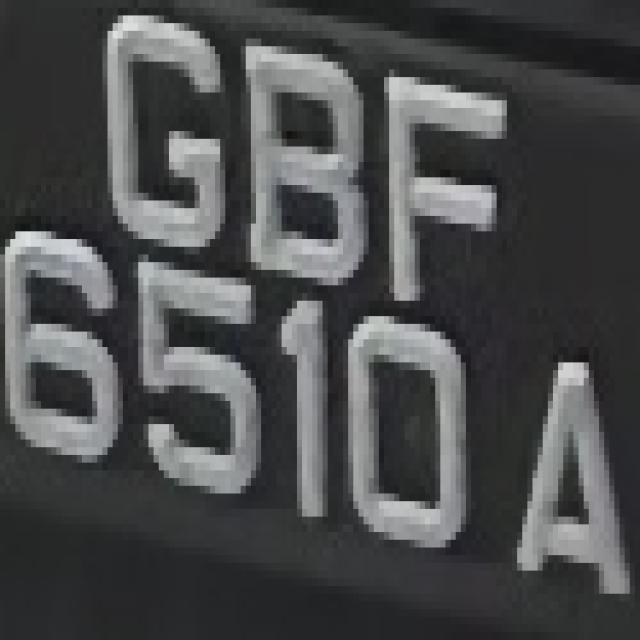0: (338, 278, 486, 570)
1: (261, 278, 333, 548)
5: (128, 231, 266, 517)
6: (0, 193, 133, 486)
A: (496, 324, 640, 617)
B: (225, 15, 384, 293)
F: (374, 39, 512, 316)
G: (92, 8, 230, 270)
